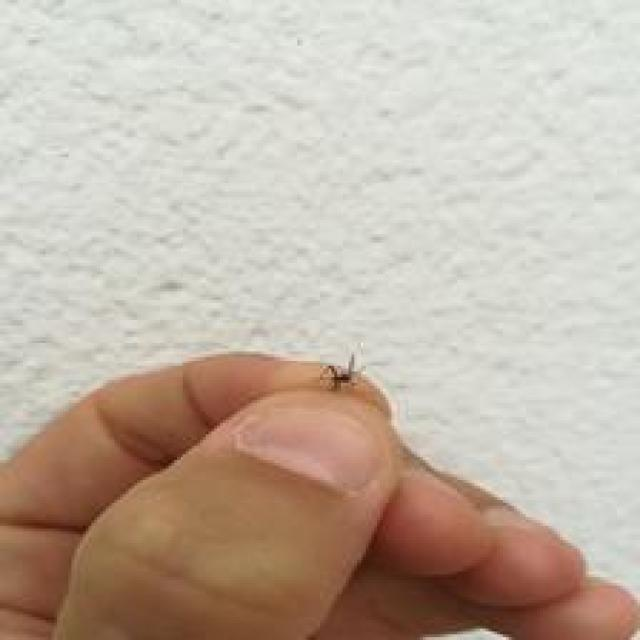Aedes albopictus: (319, 352, 367, 392)
